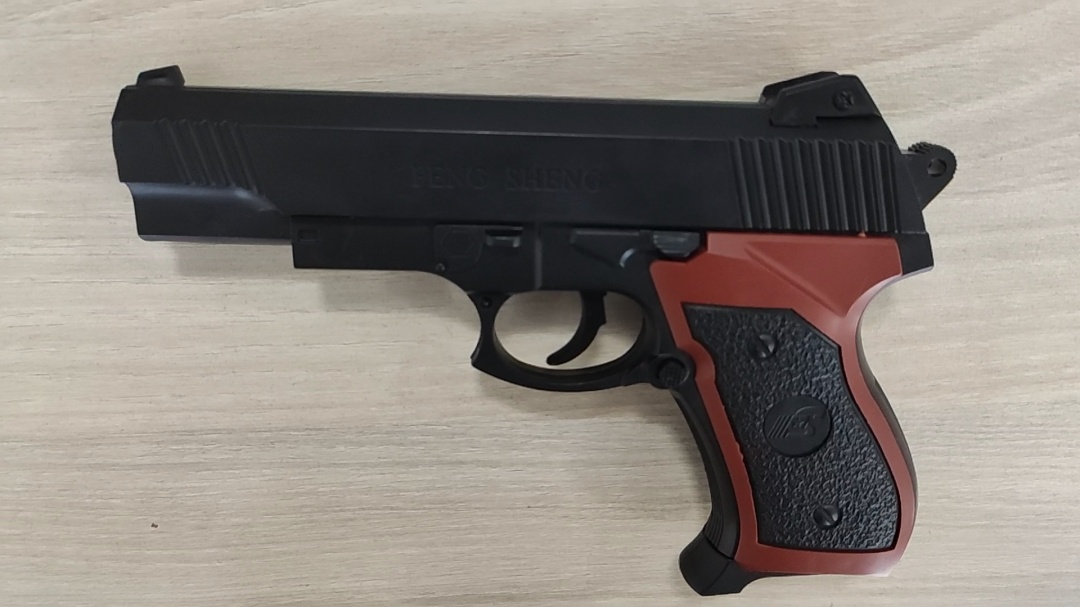gun: (111, 64, 958, 597)
